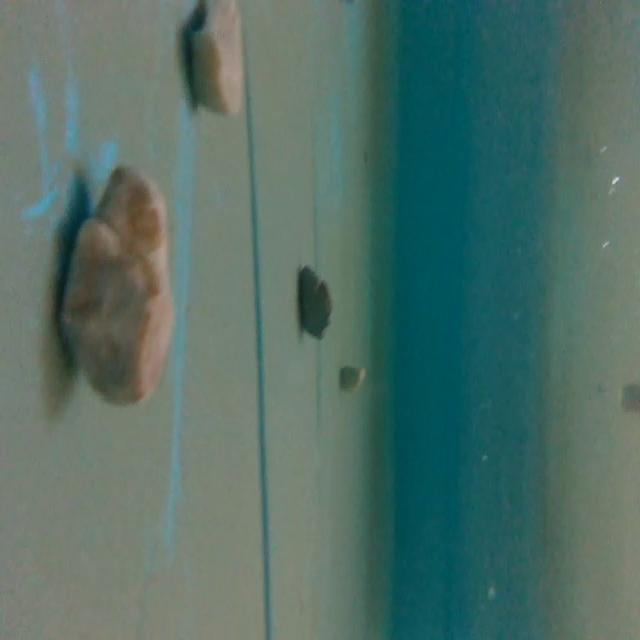rock: (52, 162, 176, 413), (182, 2, 248, 124), (296, 257, 334, 347), (336, 366, 367, 390)
